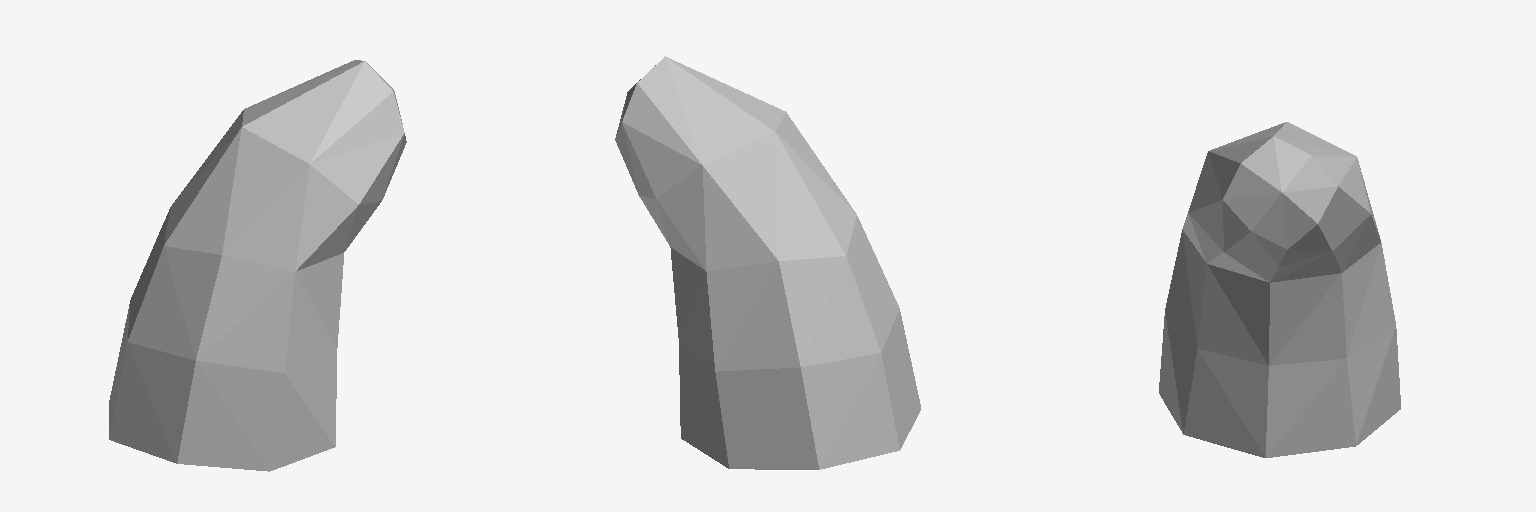
The model's file is rightArm.obj.
The picture shows the model from 3 angles: view 1: azimuth 30°, elevation 25°; view 2: azimuth 150°, elevation 25°; view 3: azimuth 270°, elevation 25°; orthographic projection.
Parts seen in each view (by area): view 1: Cube.001_Cube.002; view 2: Cube.001_Cube.002; view 3: Cube.001_Cube.002.
Boxes of the visible parts, <box> form: Cube.001_Cube.002: <box>109,60,406,471</box>; Cube.001_Cube.002: <box>615,56,920,469</box>; Cube.001_Cube.002: <box>1159,122,1400,457</box>.
Bounding box in the file's own units: 0.7352 × 0.8649 × 0.5547.